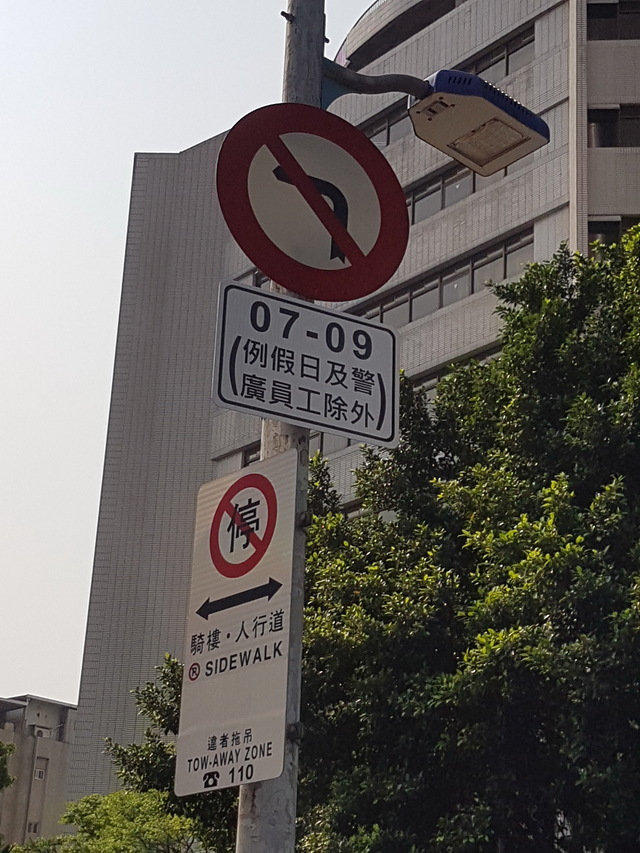No_left_turn: (214, 101, 409, 301)
